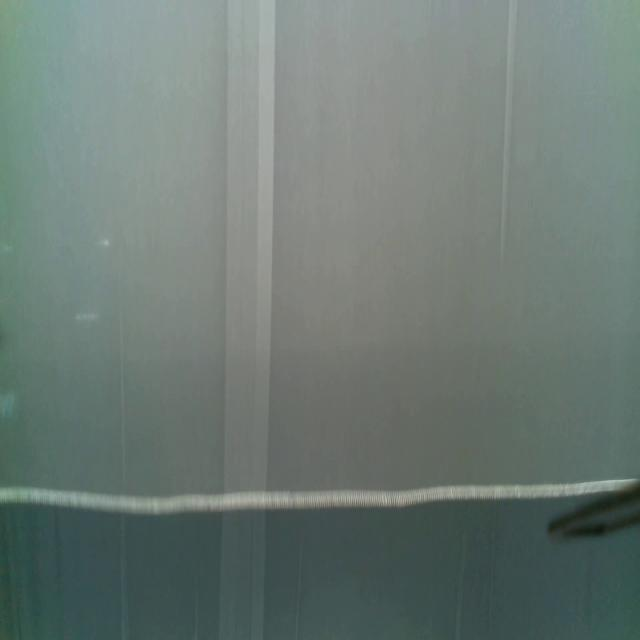crease: (217, 0, 276, 639), (500, 0, 520, 271), (118, 301, 128, 640), (454, 533, 468, 640), (294, 552, 304, 640)
